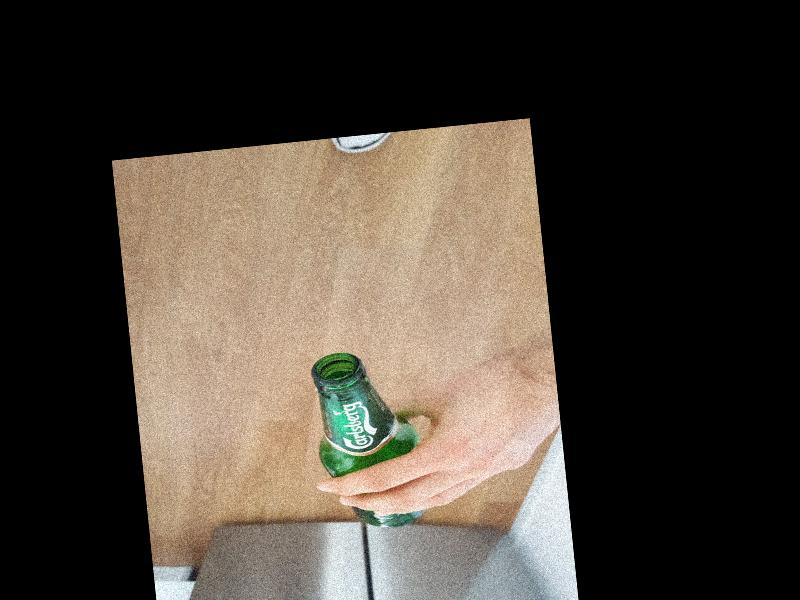Beer: (310, 345, 427, 533)
